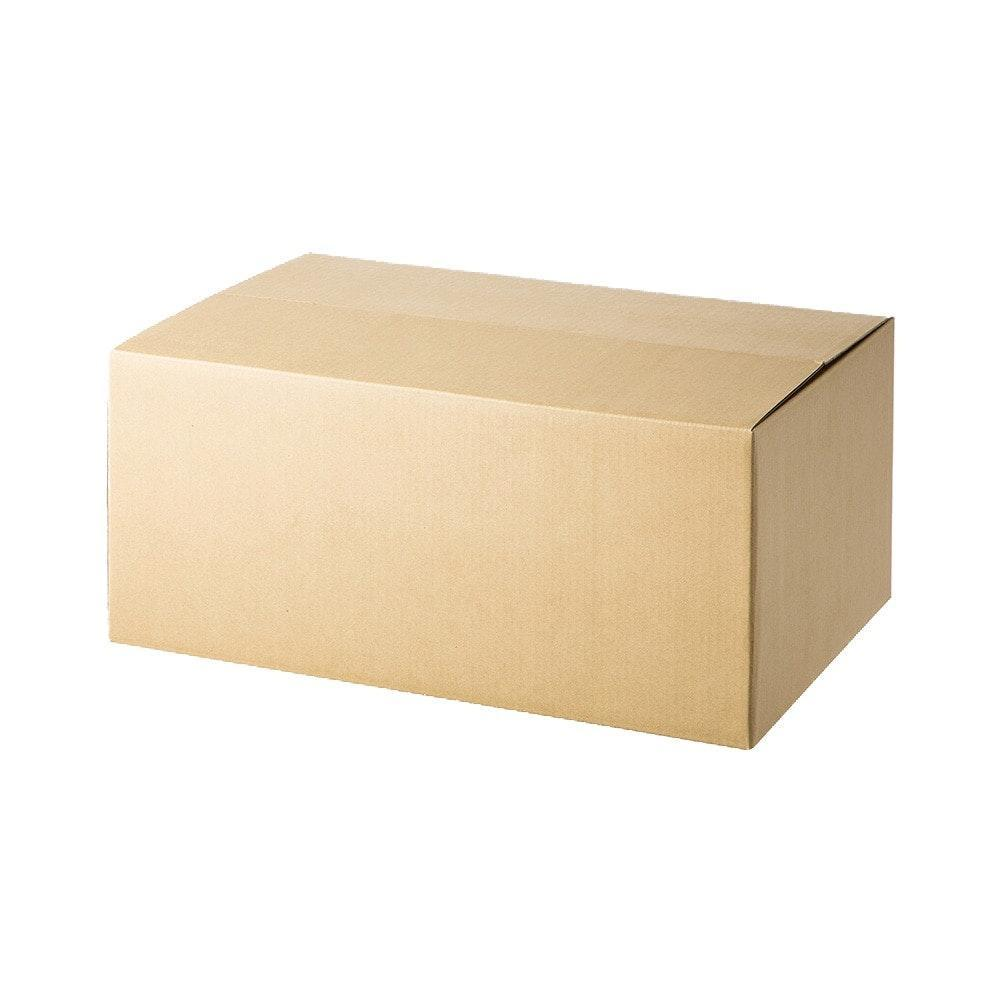box: (103, 252, 898, 754)
